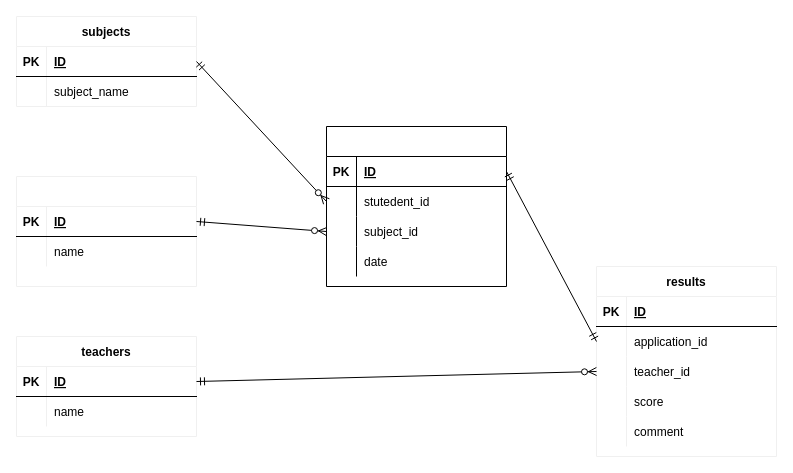
The diagram is 793 pixels wide and 473 high, and some of its shapes have lost their labels. Each missing label, with the box of its shape:
applications: (326, 126, 506, 286)
students: (16, 176, 196, 286)
